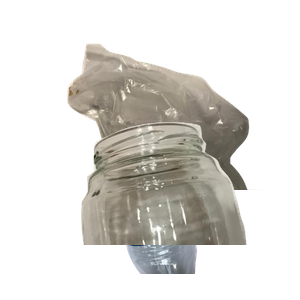glass: (74, 120, 300, 300)
metal: (105, 63, 300, 192)
plastic: (99, 120, 289, 300)
trash: (65, 41, 300, 221)
